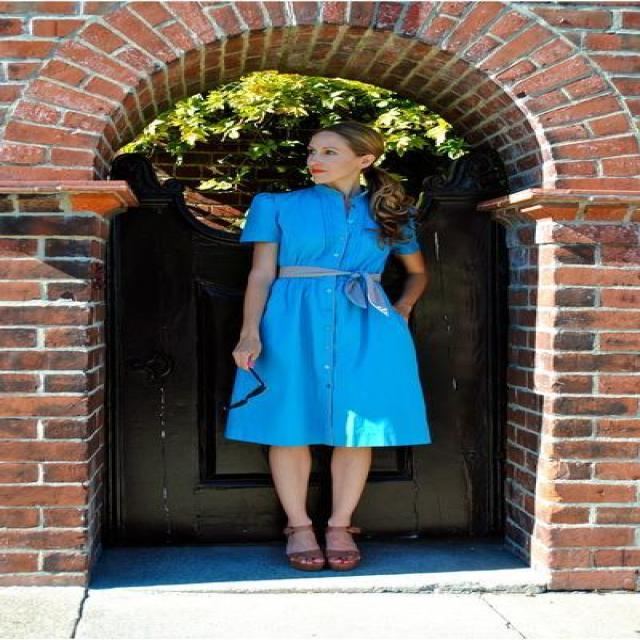dress: (226, 182, 428, 446)
shoe: (285, 516, 376, 571)
